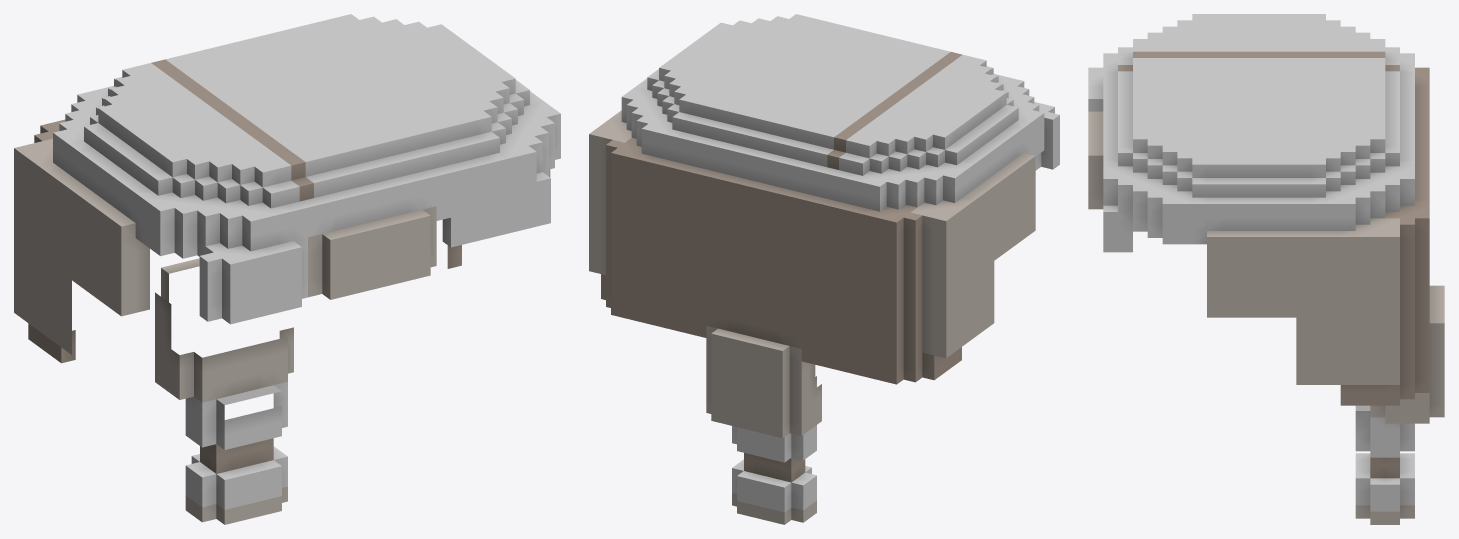
The model's file is hair_m_braided_back.glb.
3 views of the same model, side by side, from view 1: azimuth 30°, elevation 25°; view 2: azimuth 150°, elevation 25°; view 3: azimuth 270°, elevation 25° (orthographic). The views are drawn at different scales.
Visible parts, largest first — view 1: VoxelVisual; view 2: VoxelVisual; view 3: VoxelVisual.
Boxes of the visible parts, x1,y1,x2,y2 form: VoxelVisual: (14,14,560,524); VoxelVisual: (589,14,1059,524); VoxelVisual: (1088,14,1444,524).
Size of what is drawn, in the model's own units: 1.88 by 1.94 by 1.5.
